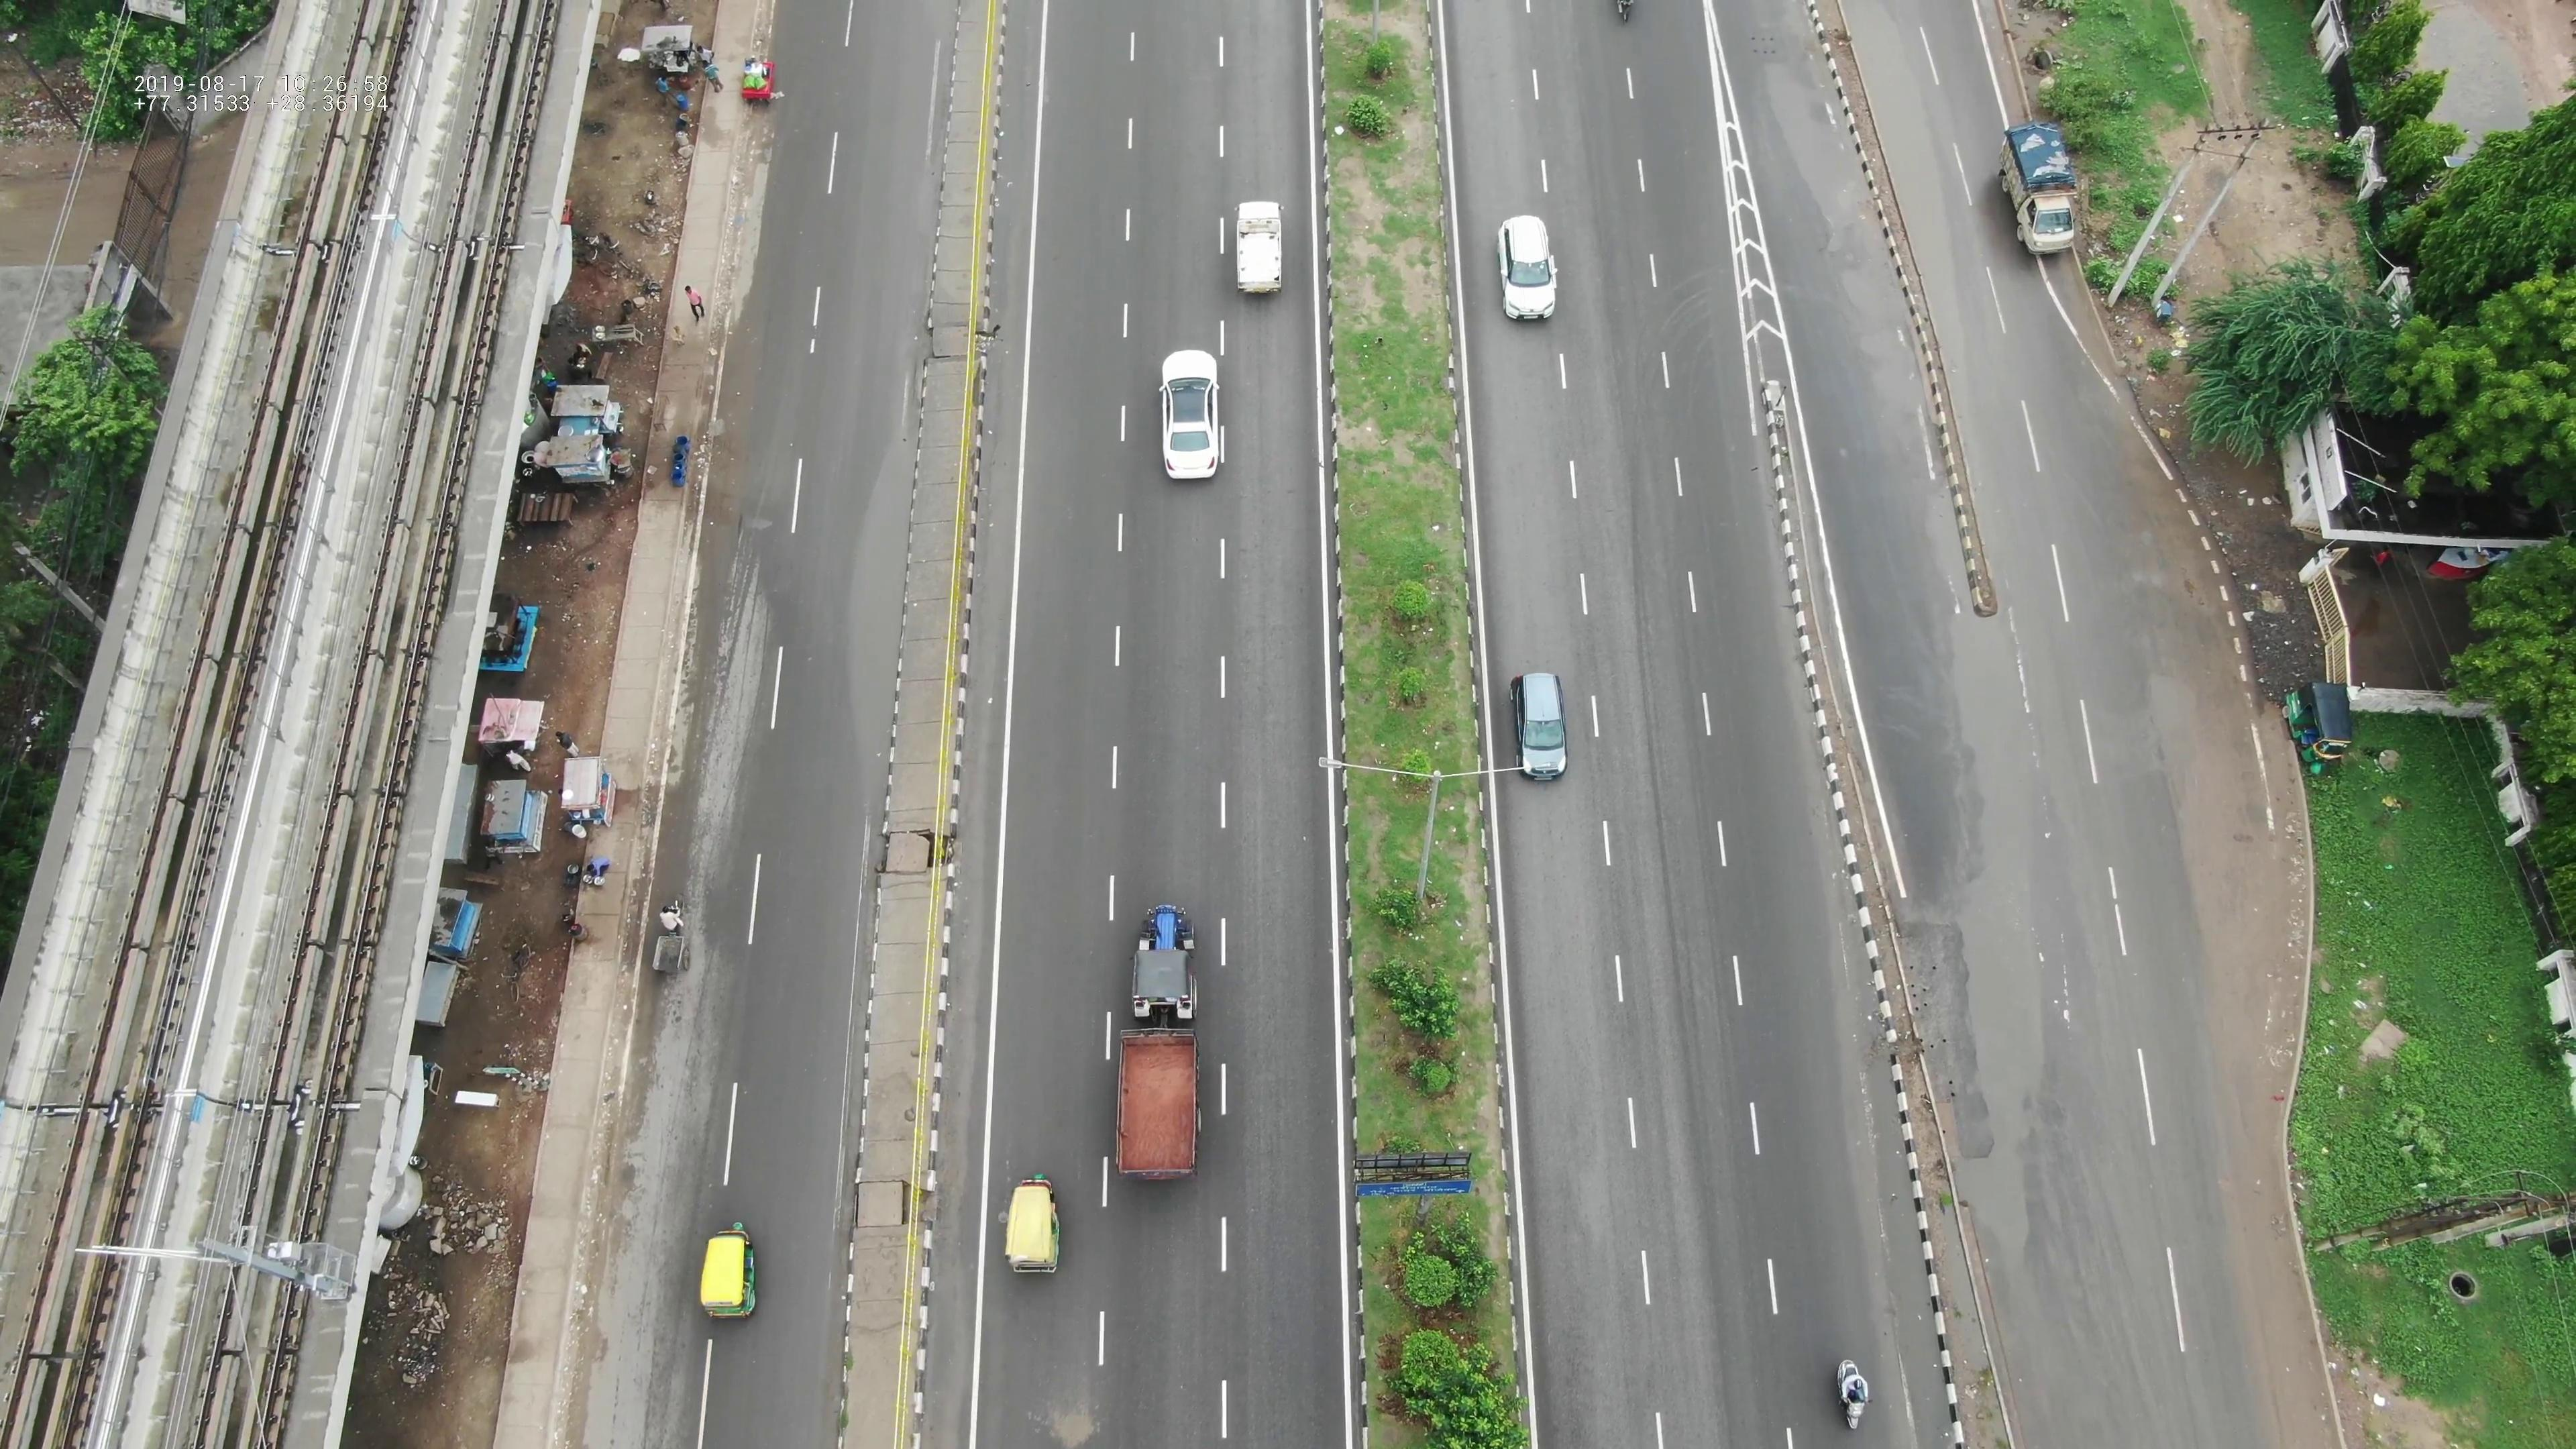Muddy_road: (2174, 740, 2289, 1028)
Waterlogging: (1918, 750, 2054, 1246), (1764, 69, 1902, 340), (835, 430, 915, 796)
